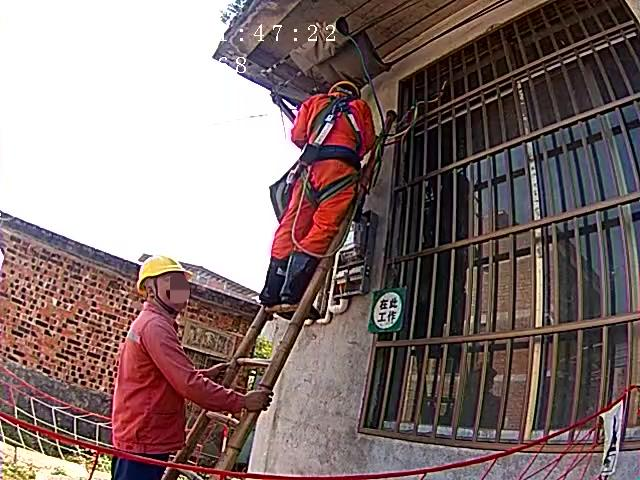halt: (140, 257, 192, 313), (330, 82, 363, 107)
inear: (144, 280, 166, 309)
